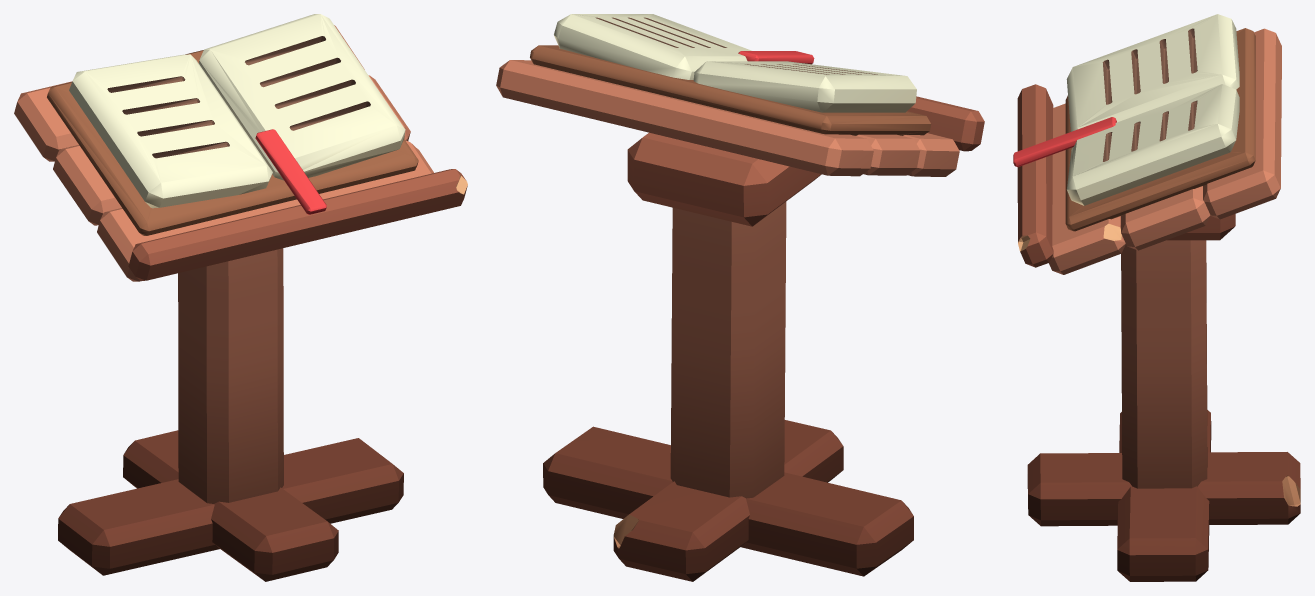
The model's file is lectern.glb.
The picture shows the model from 3 angles, left to right: view 1: azimuth 30°, elevation 25°; view 2: azimuth 150°, elevation 25°; view 3: azimuth 270°, elevation 25°; orthographic projection. The views are drawn at different scales.
Parts seen in each view (by area): view 1: Item; view 2: Item; view 3: Item.
Boxes of the visible parts, box(x1,y1,x2,y2) form: Item: box(14, 14, 467, 581); Item: box(496, 14, 984, 581); Item: box(1013, 14, 1300, 581).
Bounding box in the file's own units: 1.18 × 1.61 × 0.9383.
1 material, 1 textured.
